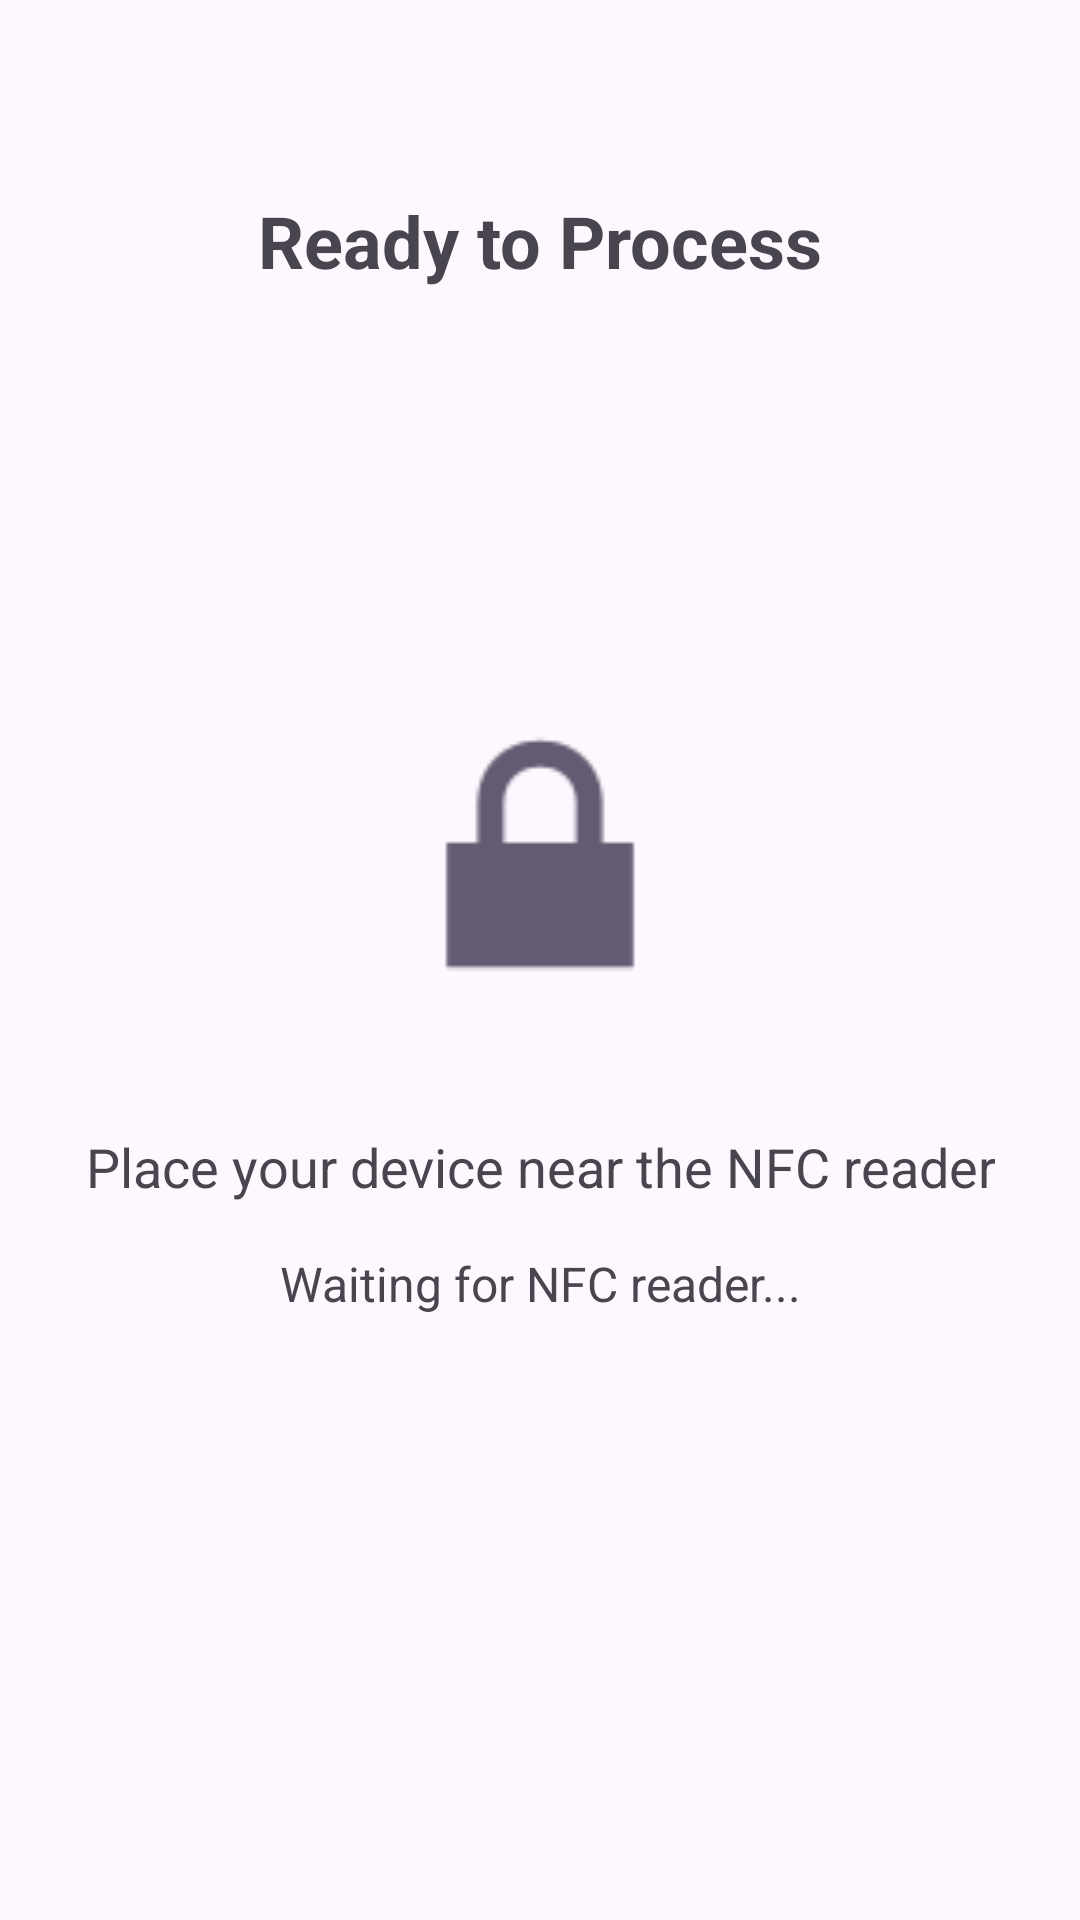

Point at icon controls on the screen. Image size 1080w x 1920h, points as point (x, y).
lock: point (540, 854)
